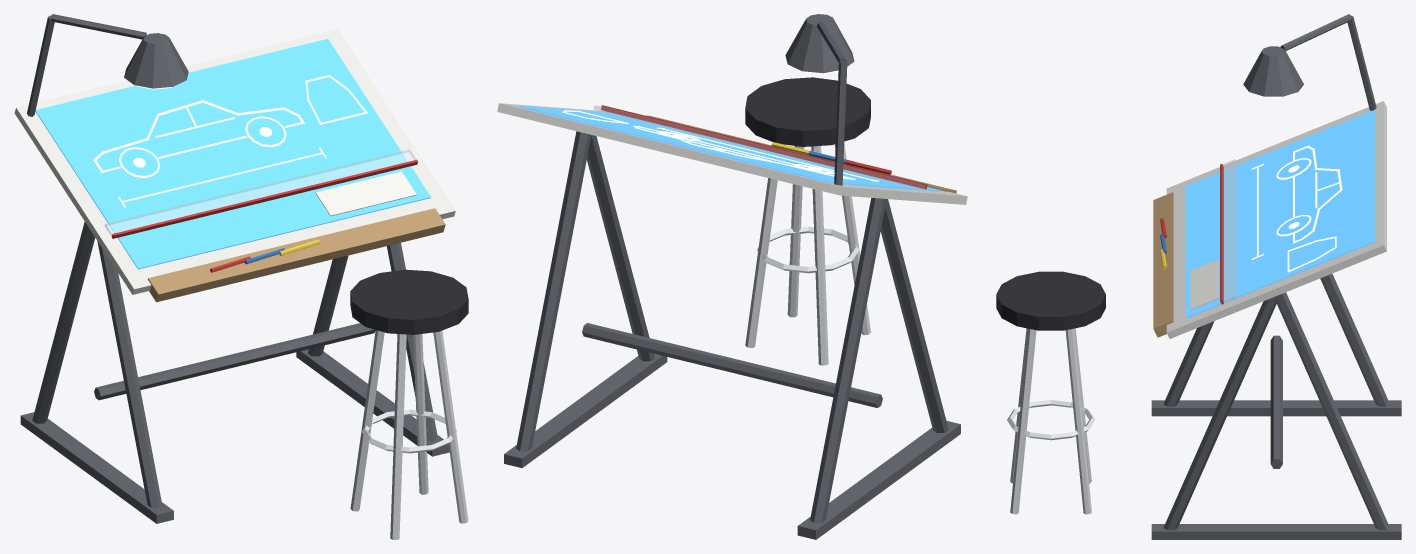
File: drafting_table.glb
The picture shows the model from 3 angles, left to right: view 1: azimuth 30°, elevation 25°; view 2: azimuth 150°, elevation 25°; view 3: azimuth 270°, elevation 25°; orthographic projection. The views are drawn at different scales.
Visible parts, largest first — view 1: drafting_table; view 2: drafting_table; view 3: drafting_table.
Part boxes in pixels (left/top/right/bottom): drafting_table: left=14, top=14, right=468, bottom=539; drafting_table: left=497, top=14, right=967, bottom=539; drafting_table: left=996, top=14, right=1401, bottom=539.
Size of the model in its own units: 1.12 by 1.44 by 1.33.
